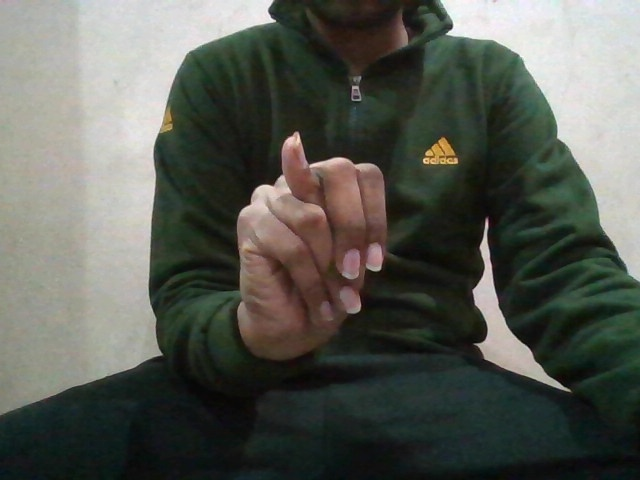N: (233, 133, 391, 350)
